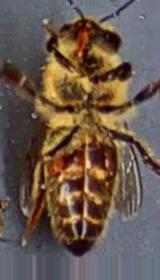varroa_mite: (39, 147, 67, 179)
